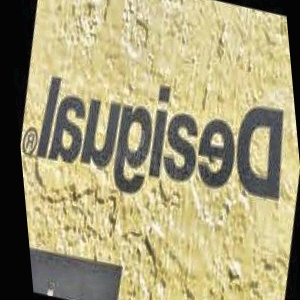desigual: (278, 2, 285, 45)
